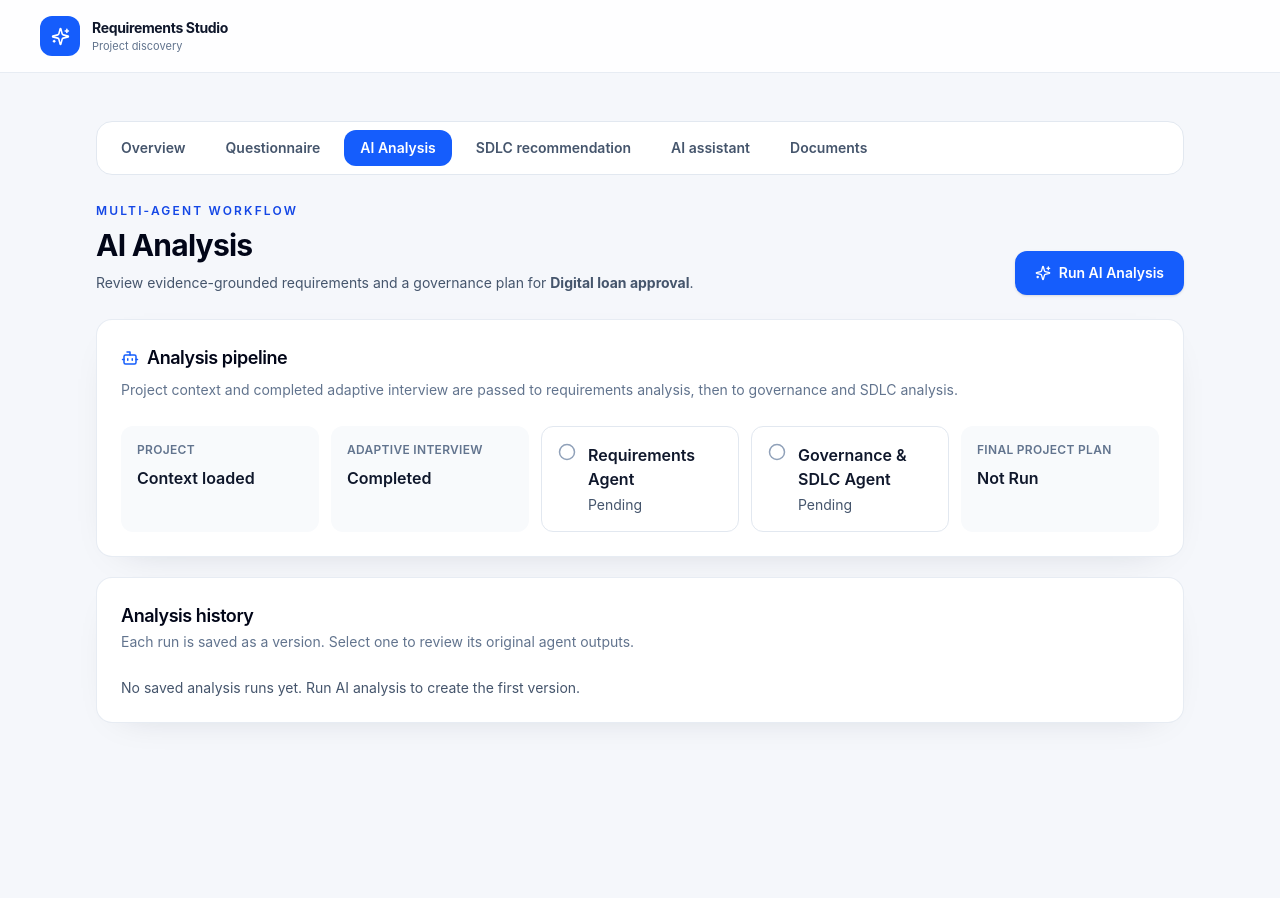
Scenario: multi-agent analysis page › shows only populated testing strategy categories and does not fabricate other rows
Click the button "Run AI Analysis".
click(1099, 273)  # box top-left (1015, 251), bottom-right (1184, 295)
(page scrolled)
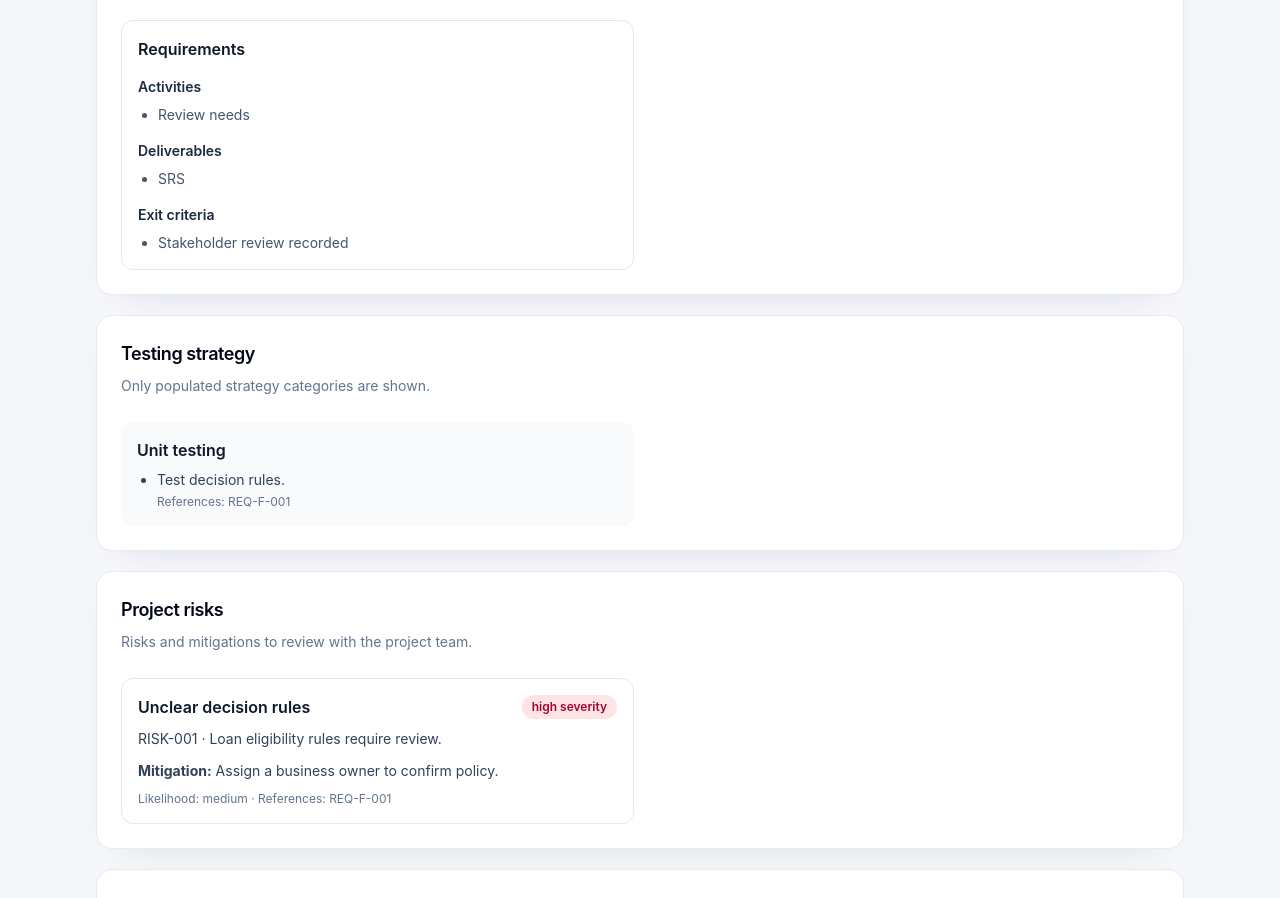
Expected: the heading "Unit testing" is shown, top-left (137, 440), bottom-right (226, 460)
